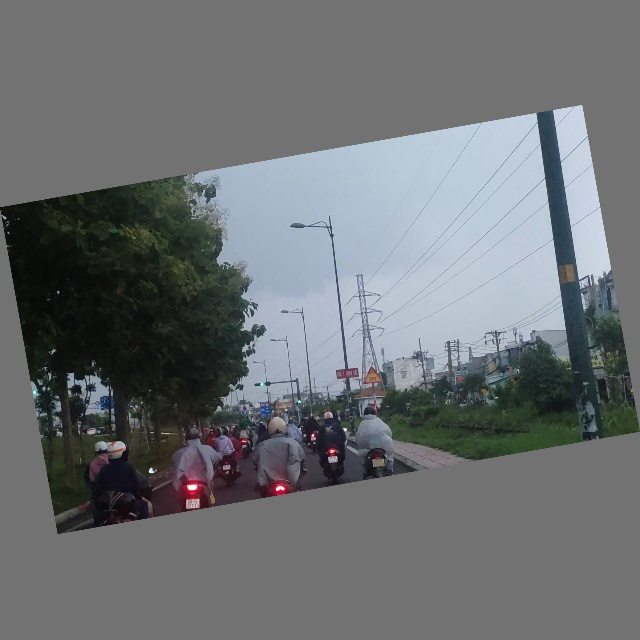W.210: (361, 366, 383, 386)
